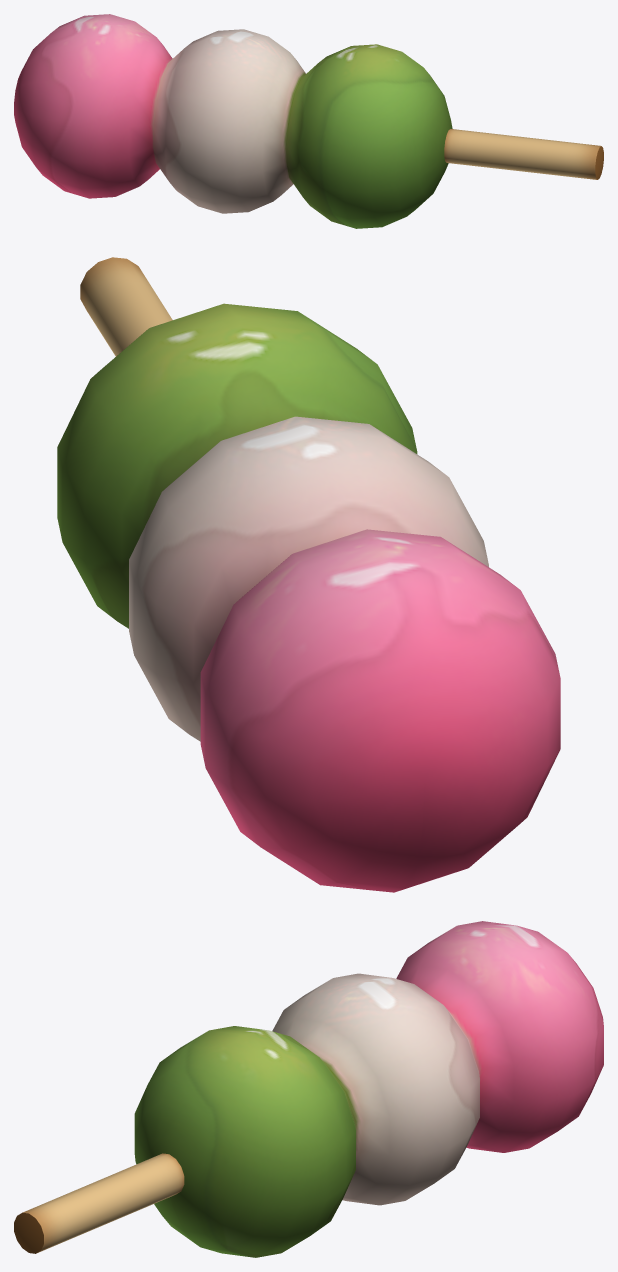
File: 010-Dango_02.FBX
3 views of the same model, one above another, from view 1: azimuth 30°, elevation 25°; view 2: azimuth 150°, elevation 25°; view 3: azimuth 270°, elevation 25° (orthographic). The views are drawn at different scales.
Visible parts, largest first — view 1: 010-Dango_02; view 2: 010-Dango_02; view 3: 010-Dango_02.
Boxes of the visible parts, box(x1,y1,x2,y2) form: 010-Dango_02: box(14, 14, 603, 228); 010-Dango_02: box(57, 257, 560, 892); 010-Dango_02: box(14, 921, 603, 1257).
Size of the model in its own units: 20.66 by 8.25 by 20.66.
